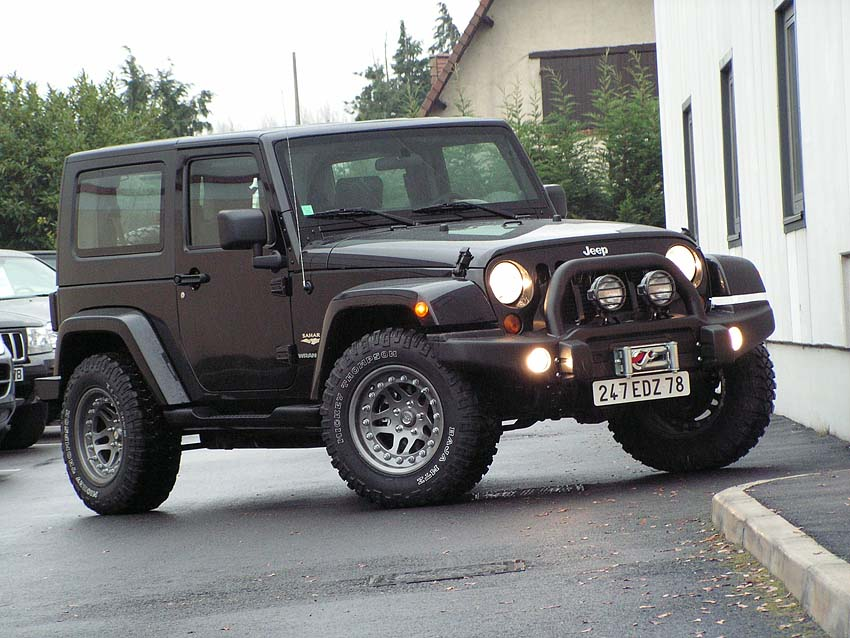Car: (39, 95, 781, 530)
